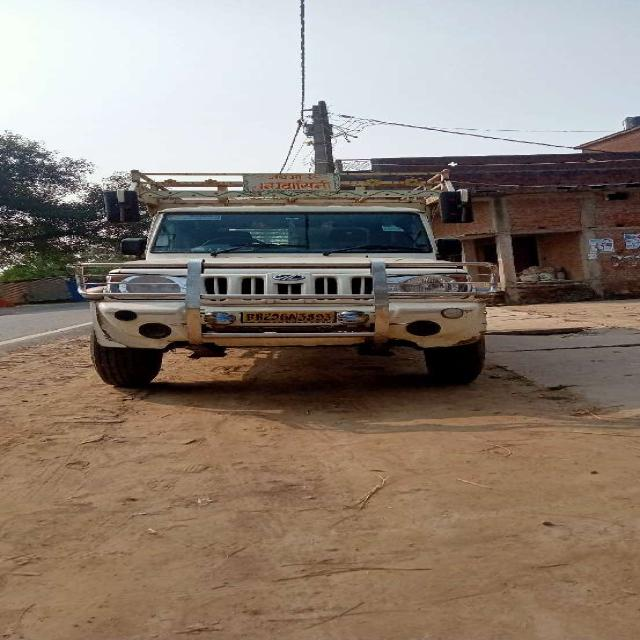light_vehicle: (89, 200, 491, 347)
